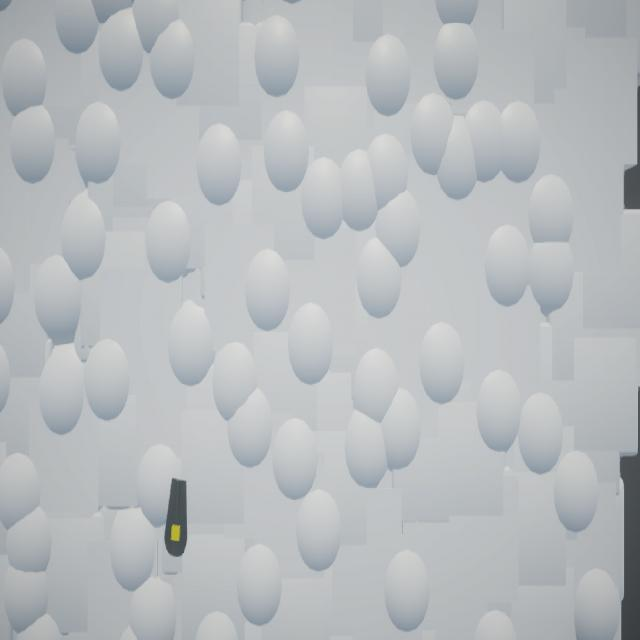handle_folk: (166, 479, 188, 558)
